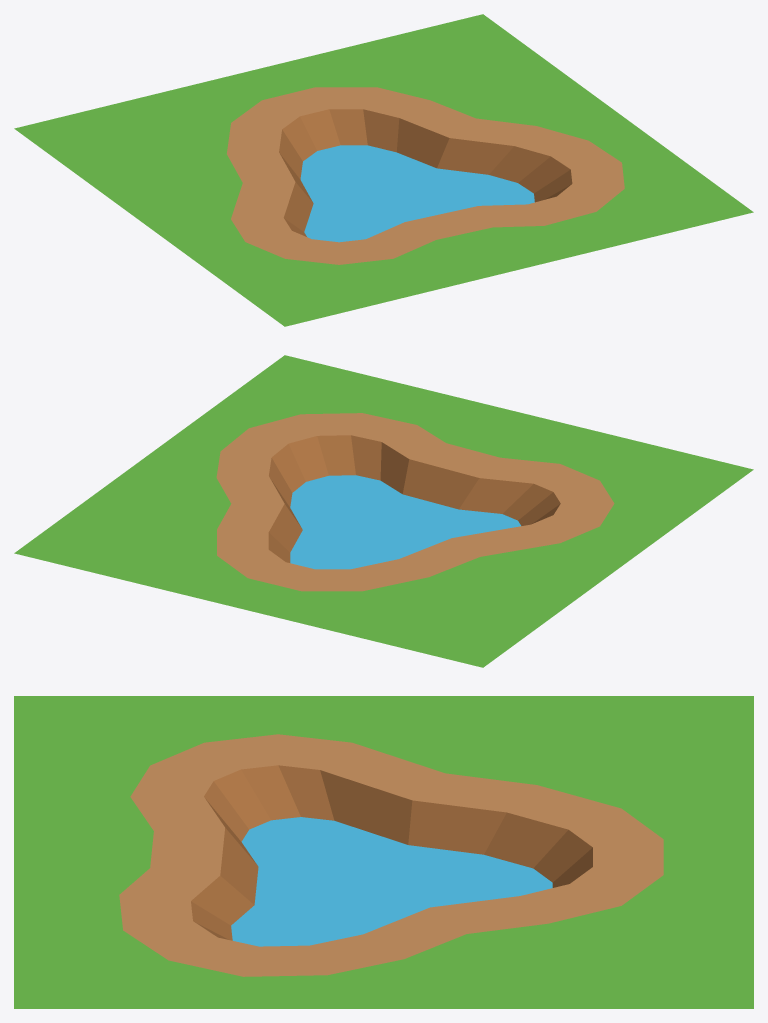
The model's file is pond.glb.
3 renders of one model, top to bottom at view 1: azimuth 30°, elevation 25°; view 2: azimuth 150°, elevation 25°; view 3: azimuth 270°, elevation 25°, orthographic. The views are drawn at different scales.
Visible parts, largest first — view 1: ground_riverTile; view 2: ground_riverTile; view 3: ground_riverTile.
Part boxes in pixels (x1=…): ground_riverTile: x1=14, y1=14, x2=753, y2=326; ground_riverTile: x1=14, y1=355, x2=753, y2=667; ground_riverTile: x1=14, y1=696, x2=753, y2=1008.
Bounding box in the file's own units: 4 × 0.2002 × 4.
